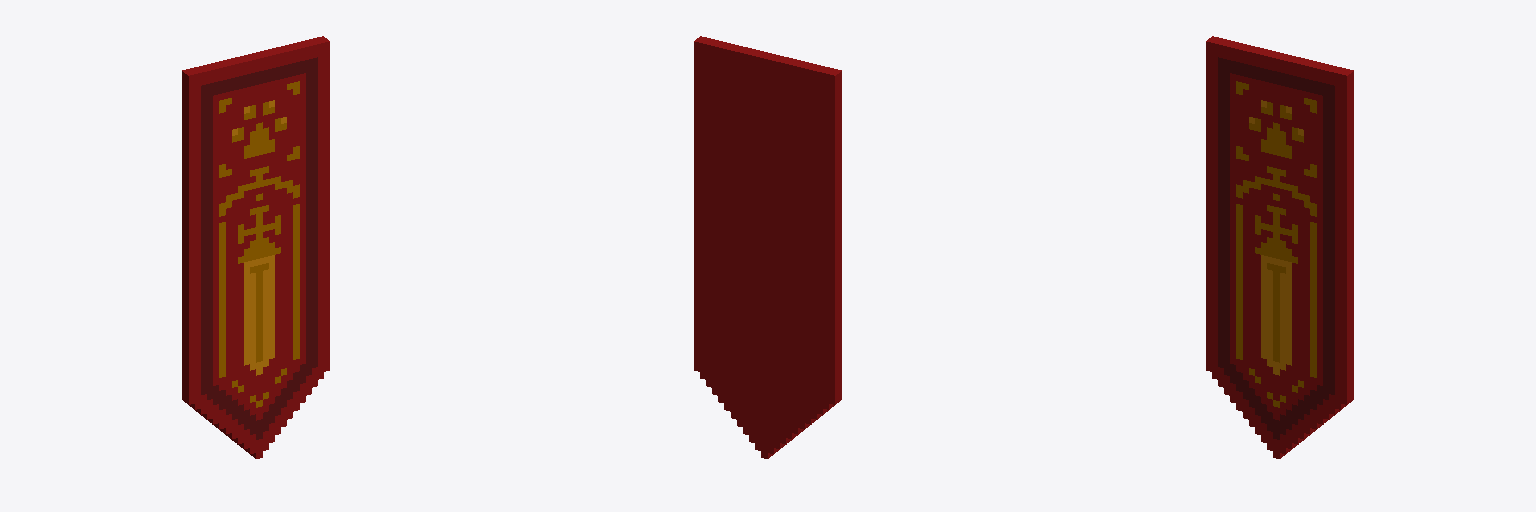
The picture shows the model from 3 angles: view 1: azimuth 30°, elevation 25°; view 2: azimuth 150°, elevation 25°; view 3: azimuth 330°, elevation 25°; orthographic projection.
Visible parts, largest first — view 1: object 1; view 2: object 1; view 3: object 1.
Boxes of the visible parts, box(x1,y1,x2,y2) form: object 1: box(182, 36, 329, 458); object 1: box(694, 36, 841, 458); object 1: box(1206, 36, 1353, 458).
Size of the model in its own units: 2.3 by 6.2 by 0.2.
1 materials, 1 textured.